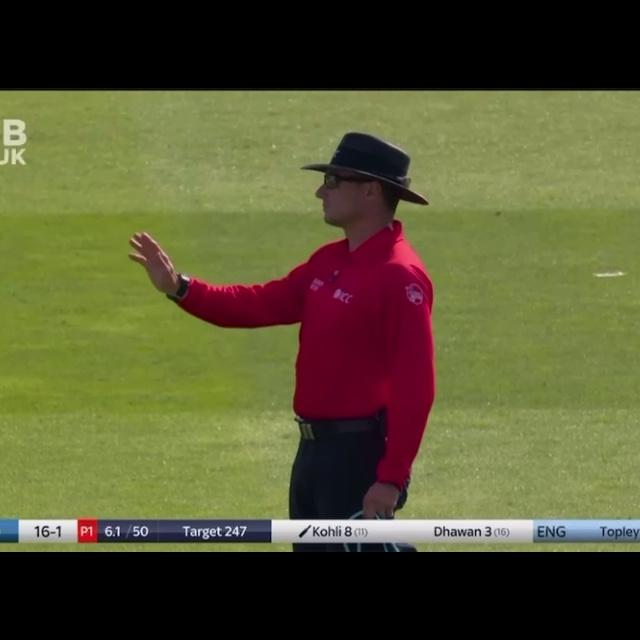umpire: (124, 120, 439, 551)
